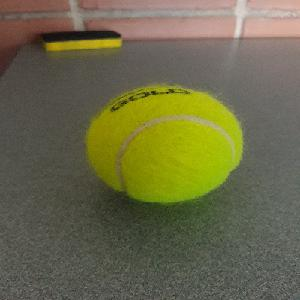Ball: (84, 84, 243, 204)
